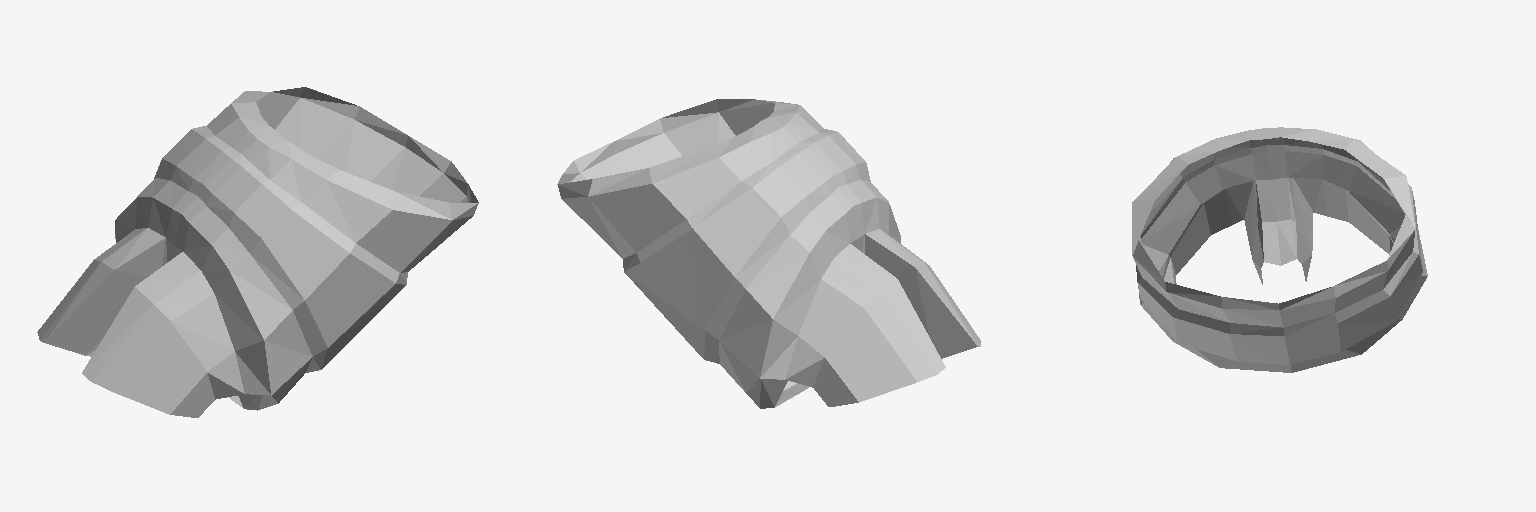
File: LThumb2.obj
The picture shows the model from 3 angles: view 1: azimuth 30°, elevation 25°; view 2: azimuth 150°, elevation 25°; view 3: azimuth 270°, elevation 25°; orthographic projection.
Parts seen in each view (by area): view 1: LThumb2_LThumb2; view 2: LThumb2_LThumb2; view 3: LThumb2_LThumb2.
Part boxes in pixels (x1,y1,x2,y2): LThumb2_LThumb2: (37,87,478,417); LThumb2_LThumb2: (557,99,980,408); LThumb2_LThumb2: (1132,127,1427,372).
Bounding box in the file's own units: 0.0374 × 0.0232 × 0.0246.